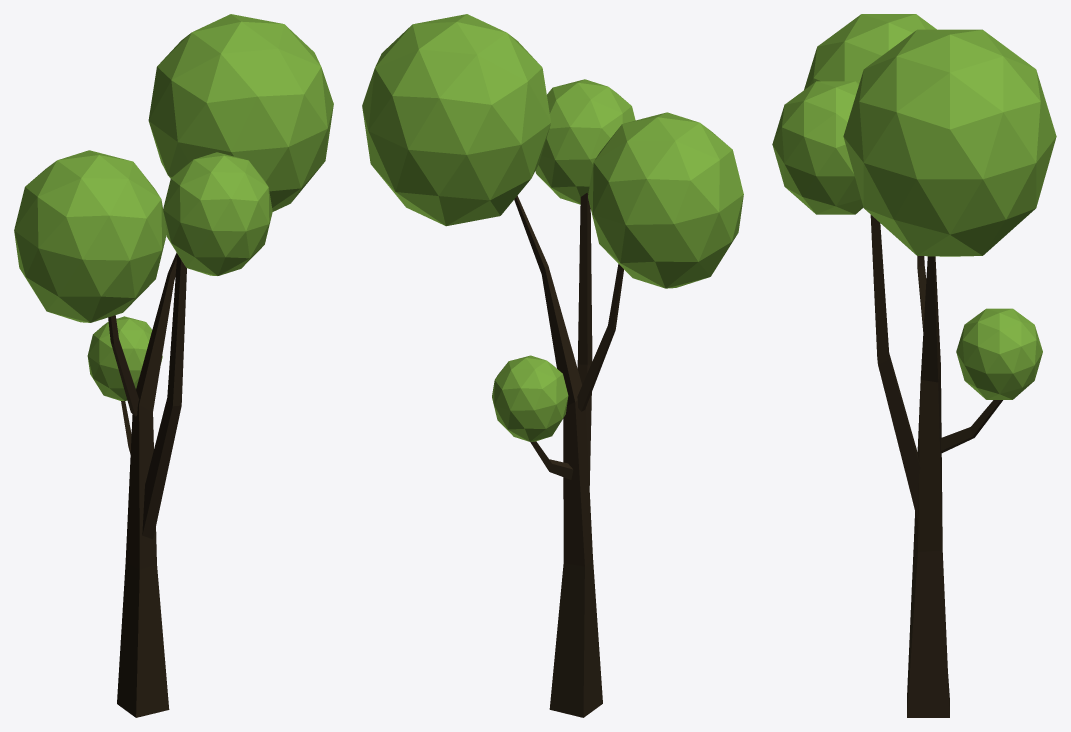
File: BU_trees_published_005.obj
The picture shows the model from 3 angles, left to right: view 1: azimuth 30°, elevation 25°; view 2: azimuth 150°, elevation 25°; view 3: azimuth 270°, elevation 25°; orthographic projection. The views are drawn at different scales.
Visible parts, largest first — view 1: Tree_005_GEO; view 2: Tree_005_GEO; view 3: Tree_005_GEO.
Boxes of the visible parts, x1,y1,x2,y2 form: Tree_005_GEO: (14, 14, 333, 717); Tree_005_GEO: (362, 14, 743, 717); Tree_005_GEO: (772, 14, 1056, 717).
Size of the model in its own units: 4.5 by 8.74 by 3.07.
